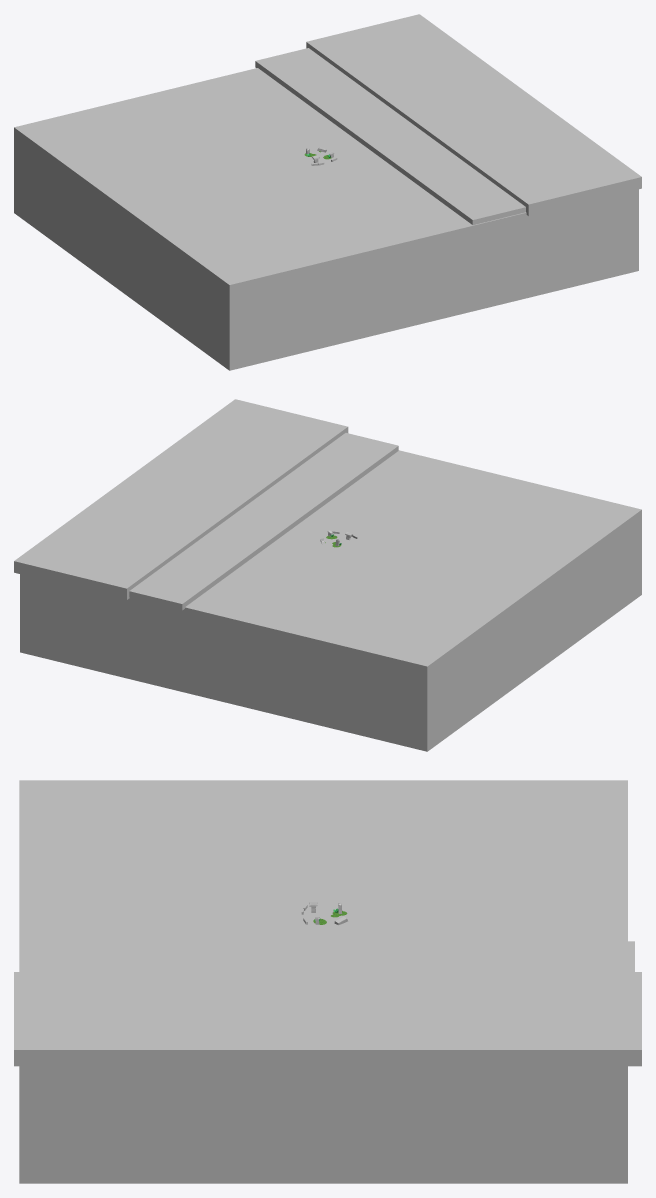
The model's file is stage2.FBX.
3 renders of one model, top to bottom at view 1: azimuth 30°, elevation 25°; view 2: azimuth 150°, elevation 25°; view 3: azimuth 270°, elevation 25°, orthographic. The views are drawn at different scales.
Visible parts, largest first — view 1: Box024, Box032; view 2: Box024, Box032; view 3: Box024, Box032.
Part boxes in pixels (x1,y1,x2,y2): Box024: [14, 68, 638, 370]; Box032: [255, 14, 641, 224]; Box024: [20, 450, 641, 751]; Box032: [14, 399, 398, 610]; Box024: [19, 780, 627, 1183]; Box032: [14, 941, 641, 1066].
Size of the model in its own units: 2345 by 2200 by 519.
